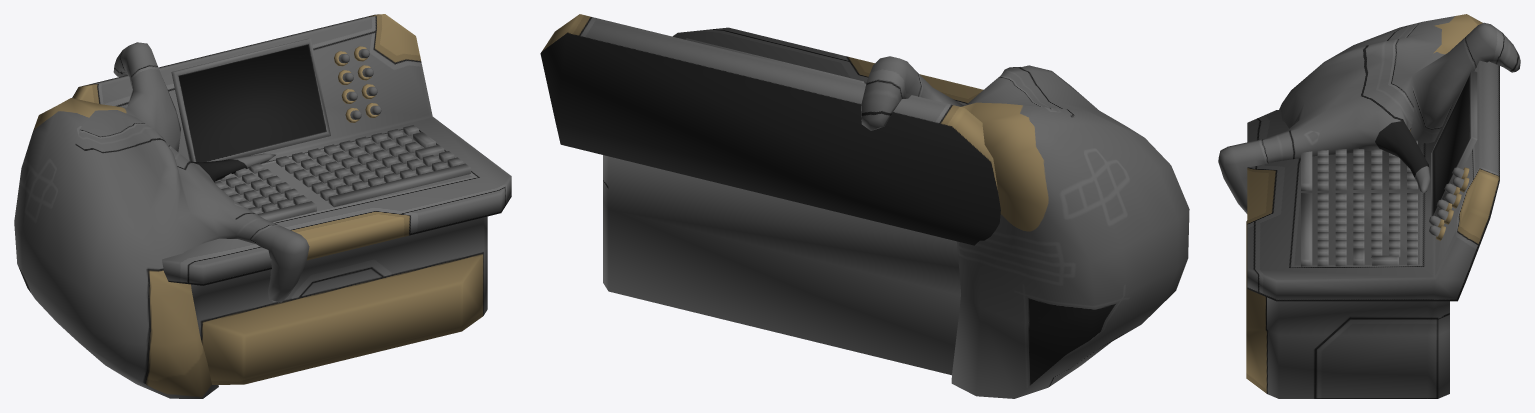
The model's file is panel.fbx.
The picture shows the model from 3 angles, left to right: view 1: azimuth 30°, elevation 25°; view 2: azimuth 150°, elevation 25°; view 3: azimuth 270°, elevation 25°; orthographic projection. The views are drawn at different scales.
Parts seen in each view (by area): view 1: panel; view 2: panel; view 3: panel.
Boxes of the visible parts, left/top/right/bottom form: panel: left=14, top=14, right=511, bottom=398; panel: left=540, top=14, right=1189, bottom=398; panel: left=1218, top=14, right=1520, bottom=398.
Size of the model in its own units: 275 by 162 by 171.
